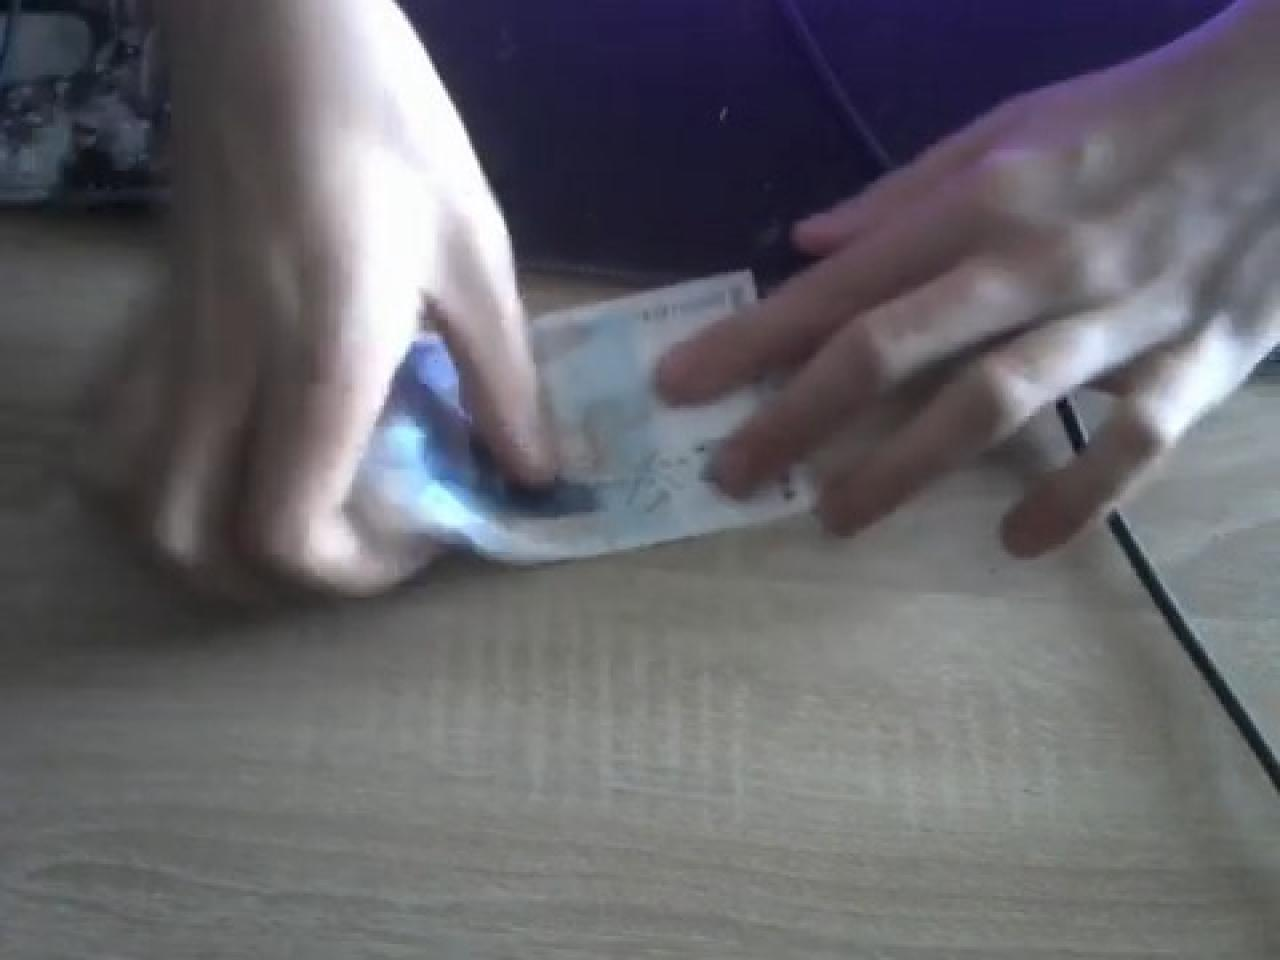20leva: (344, 272, 813, 571)
